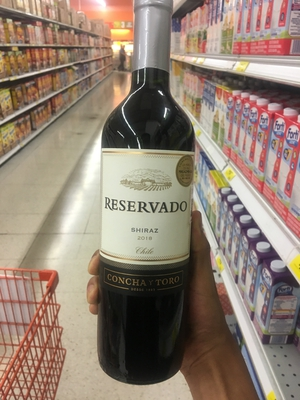reservado shiraz: (103, 3, 196, 384)
